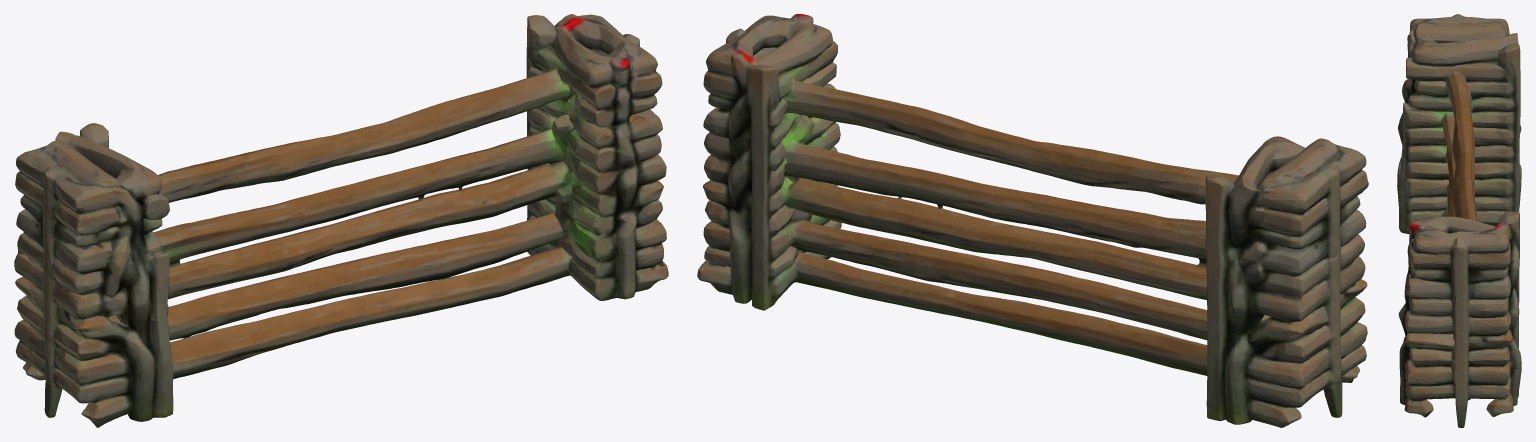
The model's file is village_rail_fence_corner_01.glb.
The picture shows the model from 3 angles, left to right: view 1: azimuth 30°, elevation 25°; view 2: azimuth 150°, elevation 25°; view 3: azimuth 270°, elevation 25°; orthographic projection. The views are drawn at different scales.
Parts seen in each view (by area): view 1: geometry_0; view 2: geometry_0; view 3: geometry_0.
Part boxes in pixels (left/top/right/bottom): geometry_0: left=14, top=14, right=668, bottom=427; geometry_0: left=697, top=14, right=1368, bottom=427; geometry_0: left=1397, top=14, right=1521, bottom=427.
Bounding box in the file's own units: 1 × 0.3966 × 0.2331.
1 material, 1 textured.
